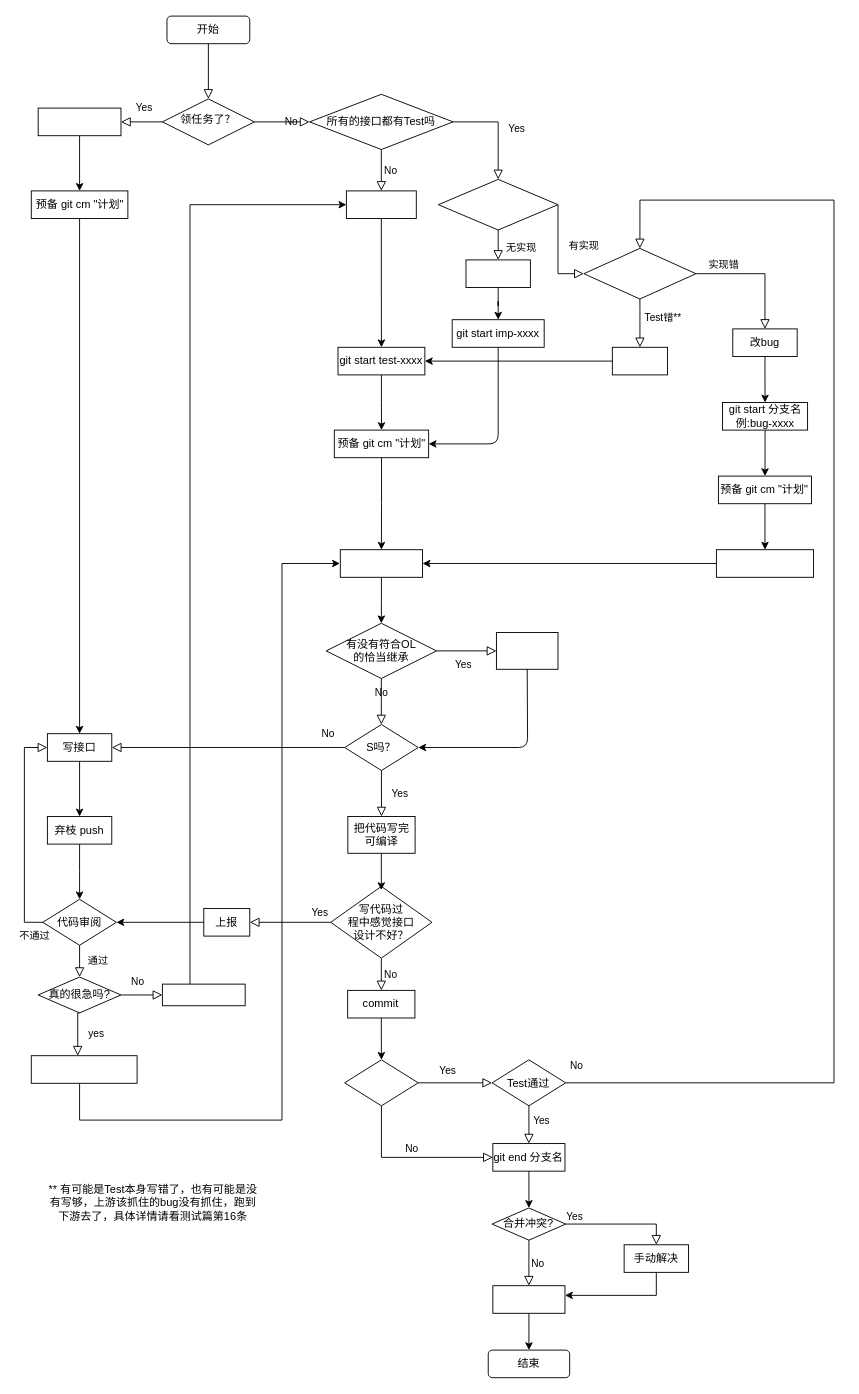
The diagram is 859 pixels wide and 1394 high, and some of its shapes have lost their labels. Here are the shapes that lost their labels. From the top down, the centre of each, then its label:
At [79,121]: "git start I-xxxx".
At [380,204]: "写Test".
At [497,204]: "哪些Test没通过?".
At [497,273]: "补实现".
At [639,273]: "检查一下你的Test".
At [639,360]: "改Test".
At [381,563]: "写代码".
At [764,563]: "根据L原则替换有bug的代码".
At [527,650]: "继承".
At [203,994]: "给该接口写Test".
At [83,1069]: "把空的接口拿去注入".
At [381,1082]: "有实现？".
At [528,1299]: "git push".
